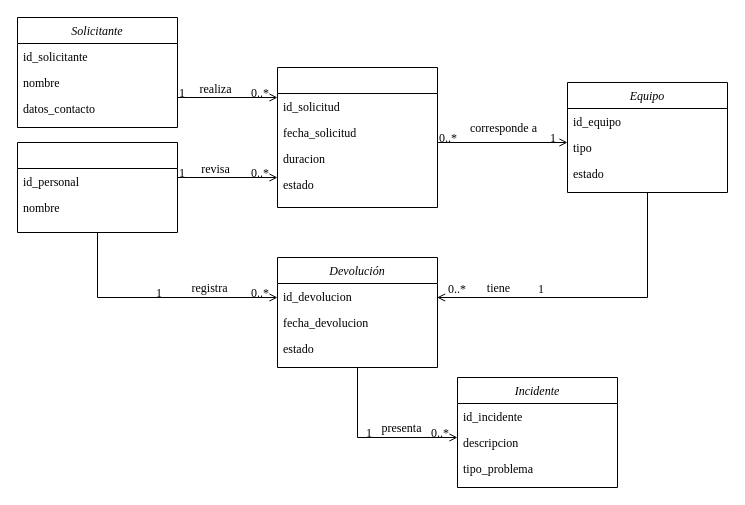
Some shapes in this 745 by 505 pixel diagram are drawn without their labels. The shapes that lost their labels are listed below. From the top down, each one's box as (x1, y1, x2, y2) in pixels, then its label:
(276, 66, 438, 208): Solicitud de préstamo
(16, 142, 178, 232): Personal encargado
